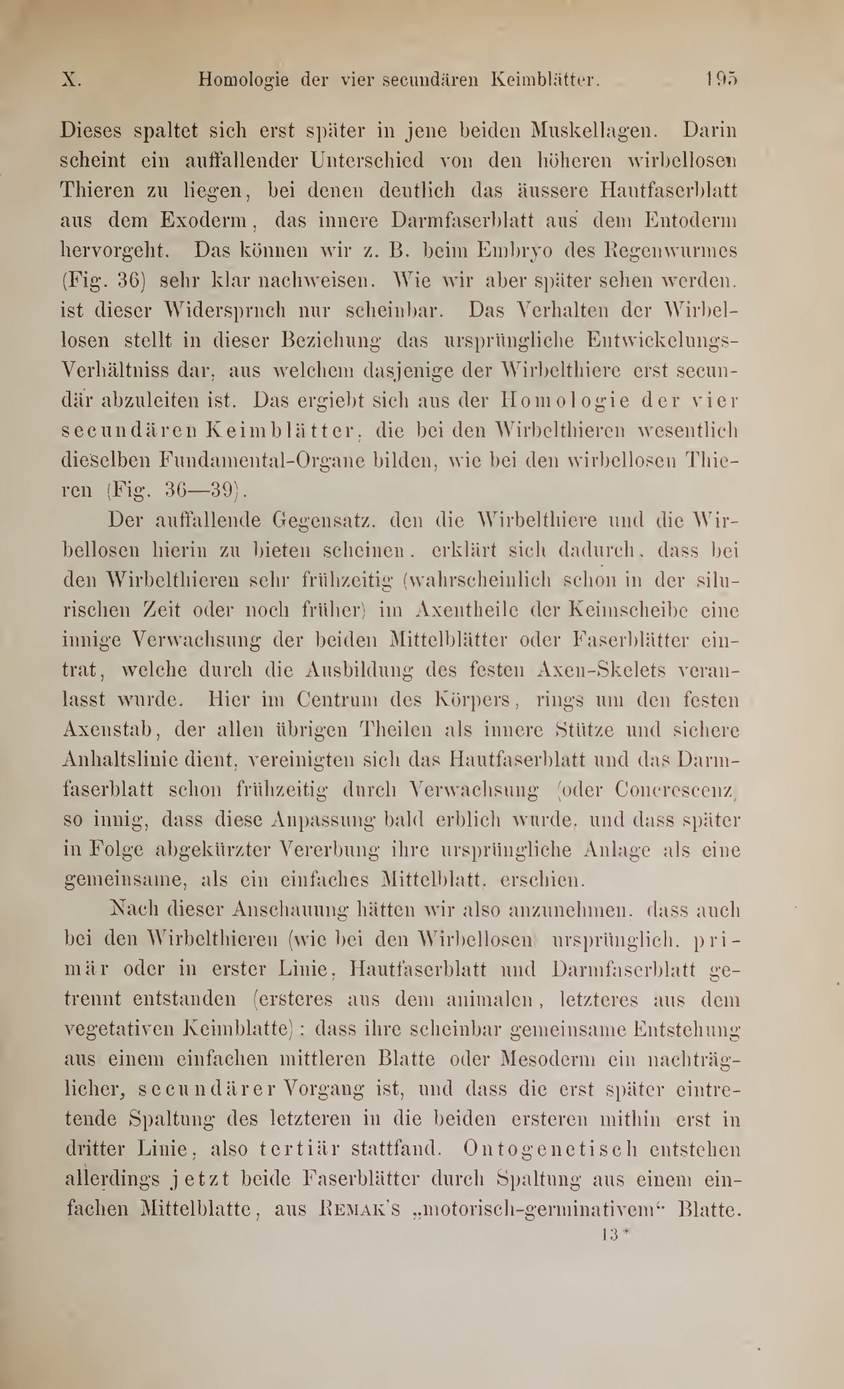MainZone: (46, 113, 755, 1234)
NumberingZone chapter: (46, 56, 95, 101)
NumberingZone_page: (694, 50, 750, 97)
QuireMarksZone: (591, 1220, 642, 1253)
RunningTitleZone: (176, 56, 624, 99)
